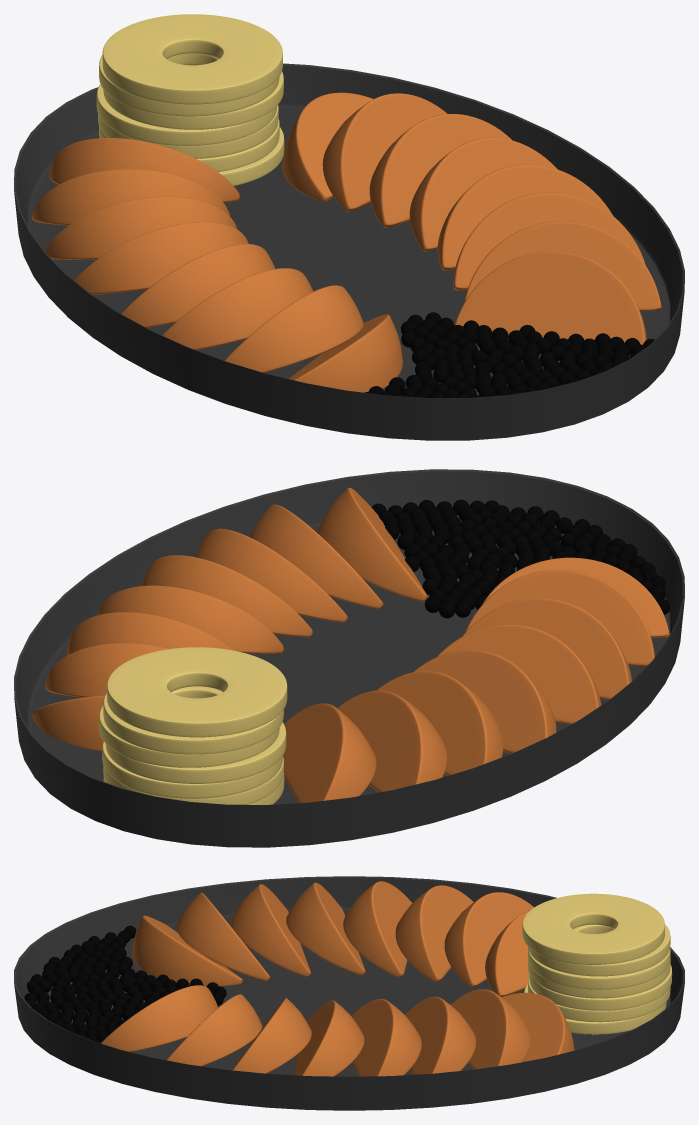
Rendered from ass_pla1_v00_UV.fbx.
3 renders of one model, top to bottom at view 1: azimuth 30°, elevation 25°; view 2: azimuth 150°, elevation 25°; view 3: azimuth 270°, elevation 25°, orthographic. The views are drawn at different scales.
Parts seen in each view (by area): view 1: Plate, Caviar, pPipe7, pSphere8, pSphere2, polySurface7, polySurface4, pSphere3, polySurface6, pSphere7, polySurface3, pSphere4 (+13 smaller); view 2: Plate, Caviar, pPipe7, polySurface1, polySurface2, polySurface5, polySurface4, polySurface3, polySurface7, polySurface6, pSphere4, pSphere8 (+12 smaller); view 3: Plate, Caviar, pPipe7, polySurface3, polySurface2, pSphere8, polySurface4, pSphere2, pSphere4, polySurface8, pSphere3, polySurface6 (+13 smaller).
Part boxes in pixels (x1,y1,x2,y2): Plate: (14,63,684,440); Caviar: (365,312,654,397); pPipe7: (102,14,282,104); pSphere8: (455,251,646,344); pSphere2: (322,93,447,211); polySurface7: (224,285,363,372); polySurface4: (74,222,248,294); pSphere3: (369,114,512,227); polySurface6: (162,268,313,350); pSphere7: (464,221,661,311); polySurface3: (45,196,237,259); pSphere4: (409,137,557,251); Plate: (14,469,684,847); Caviar: (371,499,669,618); pPipe7: (106,647,287,737); polySurface1: (283,703,376,802); polySurface2: (337,690,447,792); polySurface5: (437,624,601,724); polySurface4: (413,649,556,753); polySurface3: (377,671,503,775); polySurface7: (465,569,654,666); polySurface6: (462,598,631,699); pSphere4: (97,585,284,653); pSphere8: (317,487,427,601); Plate: (14,876,684,1110); Caviar: (24,925,226,1043); pPipe7: (522,893,664,964); polySurface3: (395,885,473,982); polySurface2: (444,892,533,987); pSphere8: (101,985,218,1052); polySurface4: (343,881,412,977); pSphere2: (451,989,530,1069); pSphere4: (351,999,421,1076); polySurface8: (132,915,242,986); pSphere3: (405,996,475,1074); polySurface6: (231,884,310,977).
Size of the model in its own units: 5.03 by 1.02 by 7.11.
